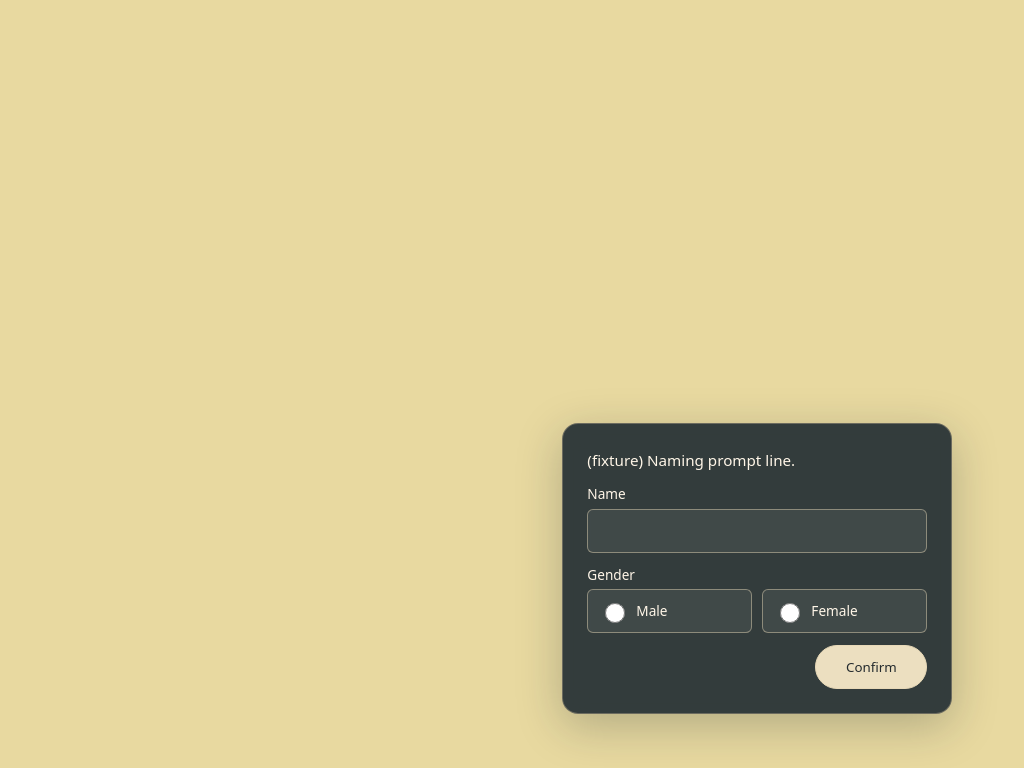
it: NamingPrompt › shows a retry-able error when saving fails
Step 1. Type "Luna" into the field with test id "naming-name-input" → (757, 531), box [587,509,927,553]
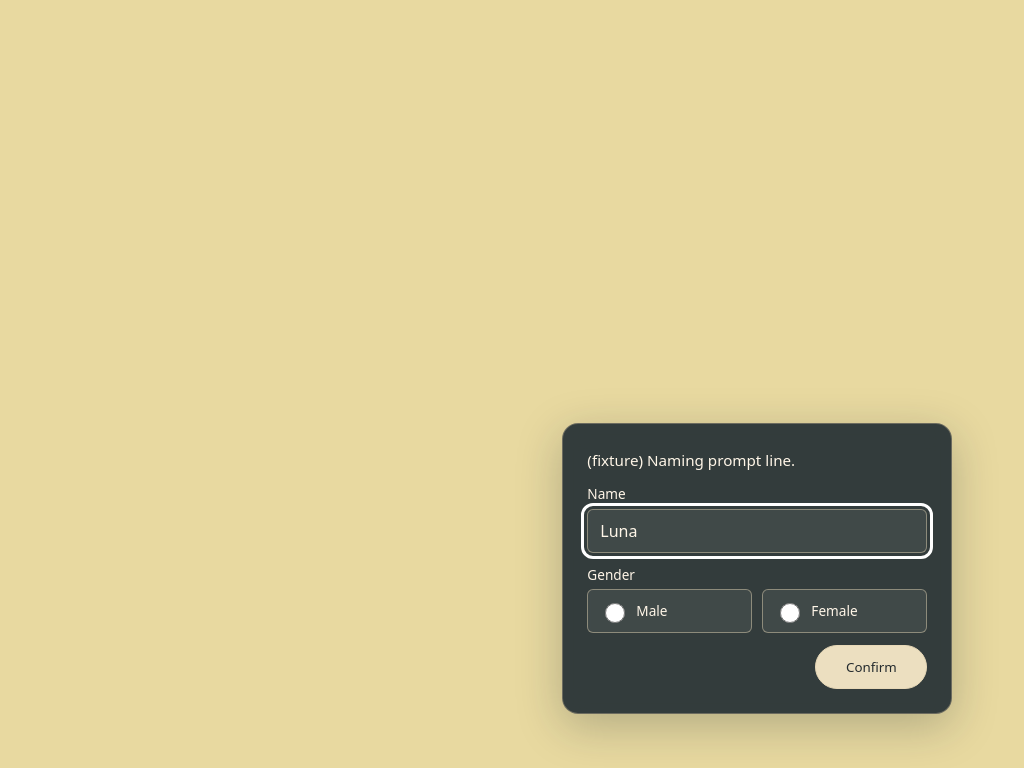
Step 2. Click the radio button with test id "naming-gender-female" → click(790, 613), box [780,603,800,623]
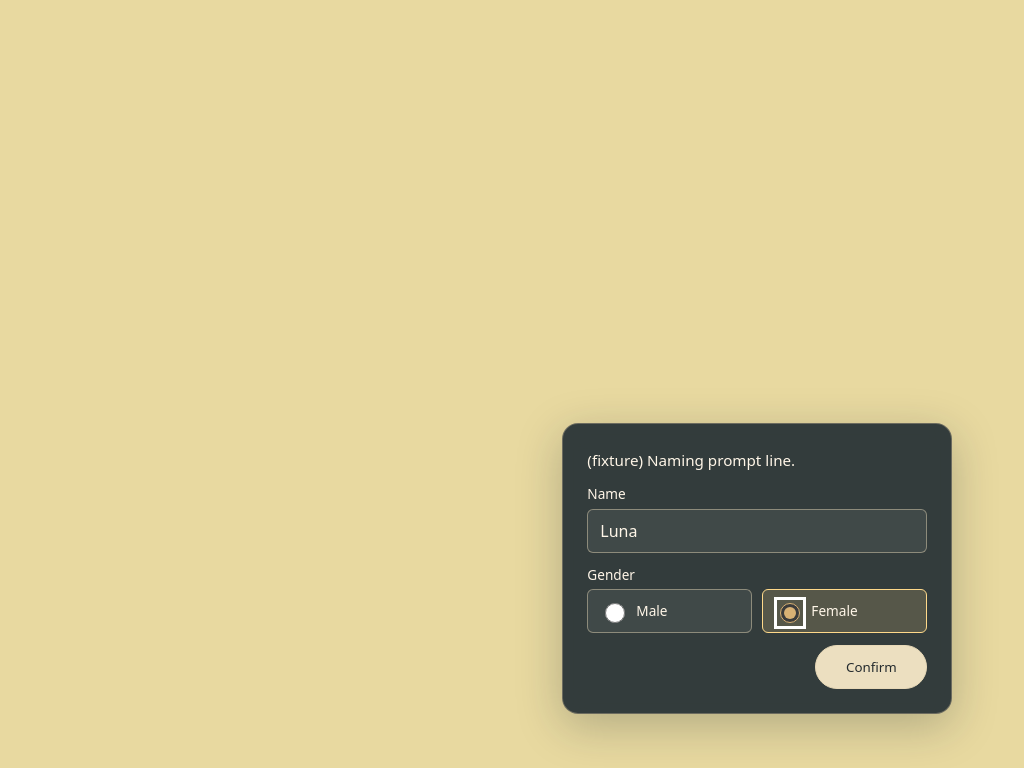
Step 3. Click the button with test id "naming-submit" → click(871, 667), box [815,645,927,689]
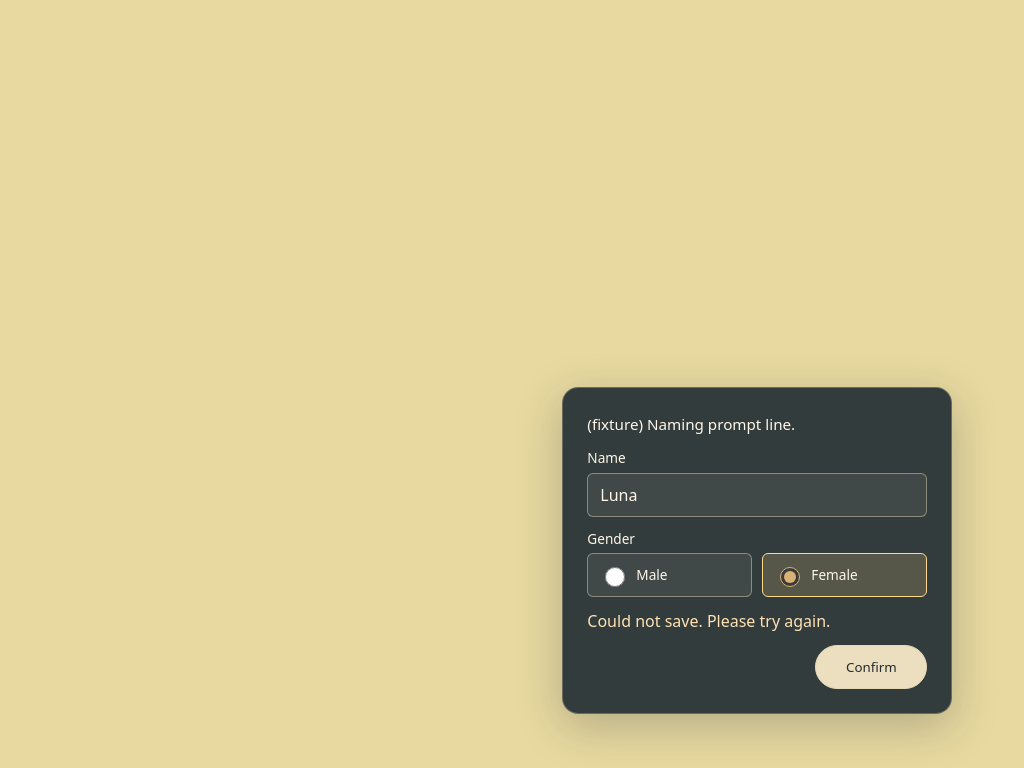
Result: the message shows "Could not save" at [587,610,830,632]
